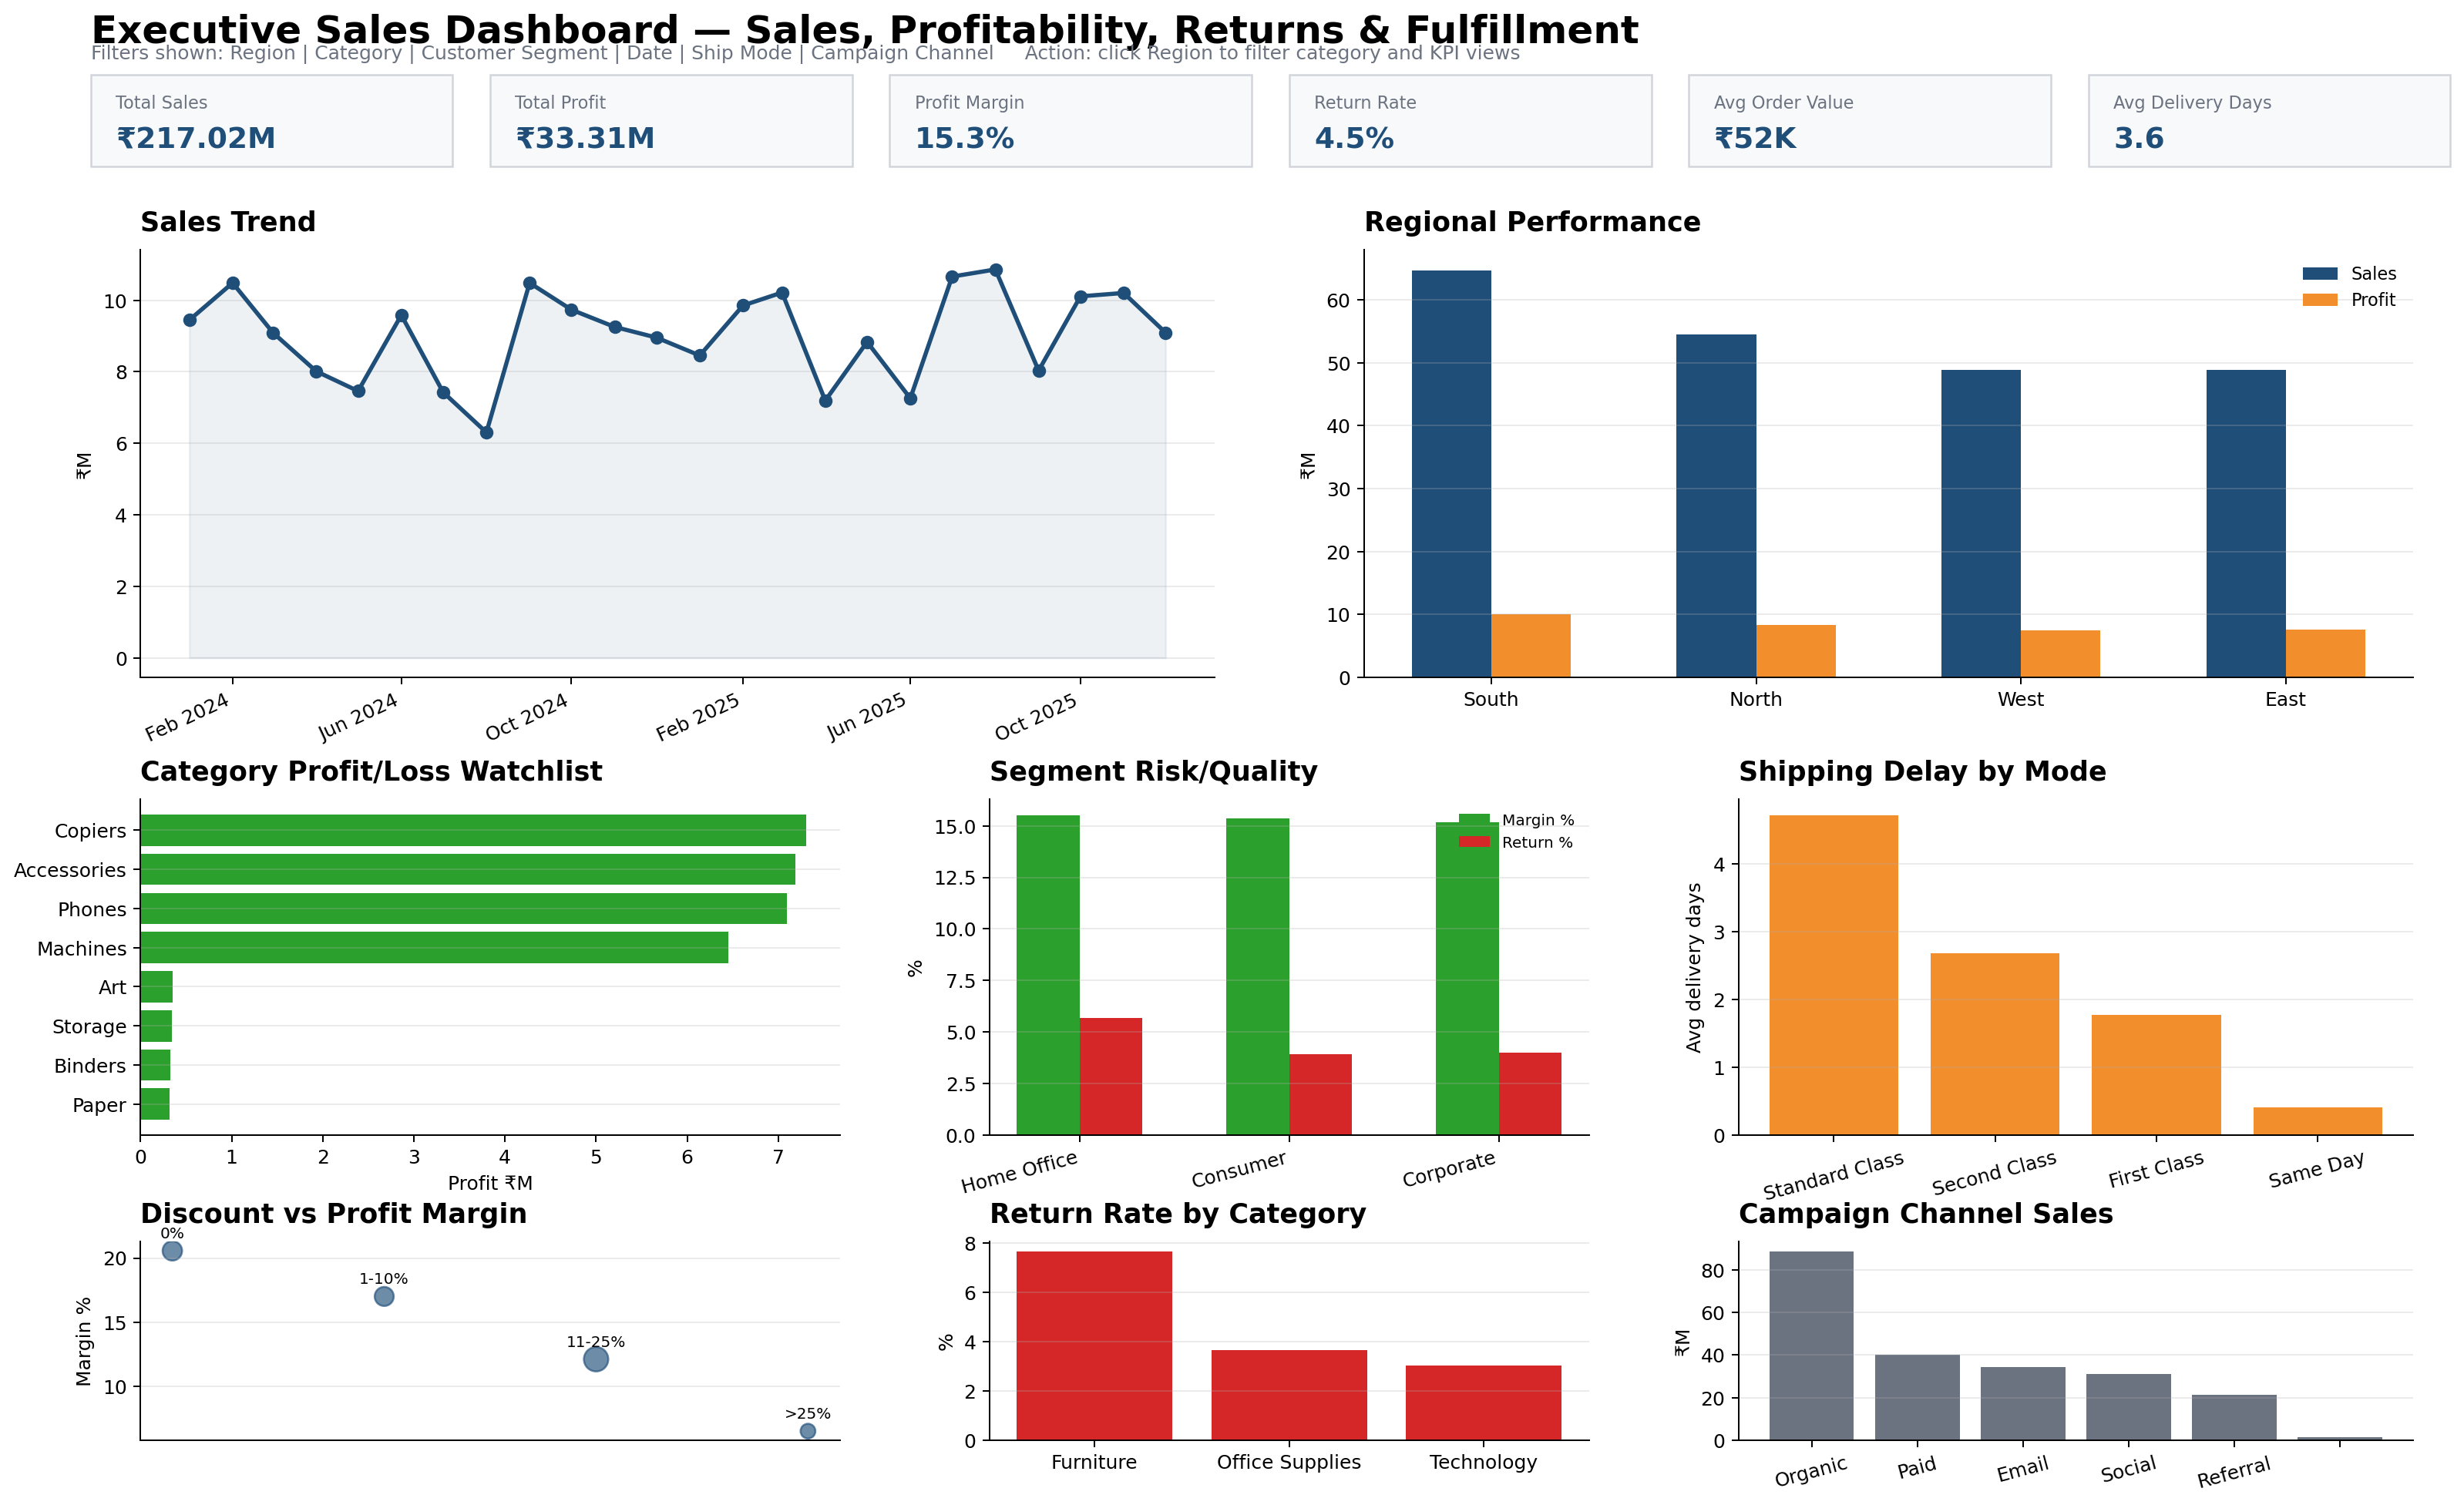

What the dashboard file says about the page in this screenshot:
{"tool":"tableau","page":{"name":"Executive Dashboard","canvas":[1800,1100],"ordinal":0},"visuals":[{"type":"title","box":[0,0,32.4,0.8]},{"type":"worksheet","title":"Sales Trend View","mark":"Line","rows":["sales"],"cols":["order_date"],"box":[0.4,1.3,15.1,3.5]},{"type":"worksheet","title":"Regional Performance View","mark":"Bar","rows":["region"],"cols":["sales"],"box":[16.2,1.3,15.1,3.5]},{"type":"worksheet","title":"Category Profitability View","mark":"Bar","rows":["sub_category"],"cols":["profit"],"box":[0.4,5.2,10.1,3.1]},{"type":"worksheet","title":"Customer Segment View","mark":"Bar","rows":["customer_segment"],"cols":["sales"],"box":[11.2,5.2,9.4,3.1]},{"type":"worksheet","title":"Shipping Performance View","mark":"Bar","rows":["ship_mode"],"cols":["delivery_days"],"box":[21.2,5.2,10.1,3.1]},{"type":"worksheet","title":"Discount vs Profit View","mark":"Circle","rows":["profit"],"cols":["discount"],"box":[0.4,8.6,10.1,2.8]},{"type":"worksheet","title":"Return Analysis View","mark":"Bar","rows":["category"],"cols":["return_flag"],"box":[11.2,8.6,9.4,2.8]}]}

Visuals, with their boxes in screenshot pixels (x1, y1, x2, y2), scaled from the page's 1800x1100 canvas onto the 2464x1505 screenshot:
title: 0,0,45,1
"Sales Trend View" worksheet (Line marks): 1,2,22,7
"Regional Performance View" worksheet (Bar marks): 22,2,43,7
"Category Profitability View" worksheet (Bar marks): 1,7,15,12
"Customer Segment View" worksheet (Bar marks): 15,7,29,12
"Shipping Performance View" worksheet (Bar marks): 29,7,43,12
"Discount vs Profit View" worksheet (Circle marks): 1,12,15,15
"Return Analysis View" worksheet (Bar marks): 15,12,29,15
